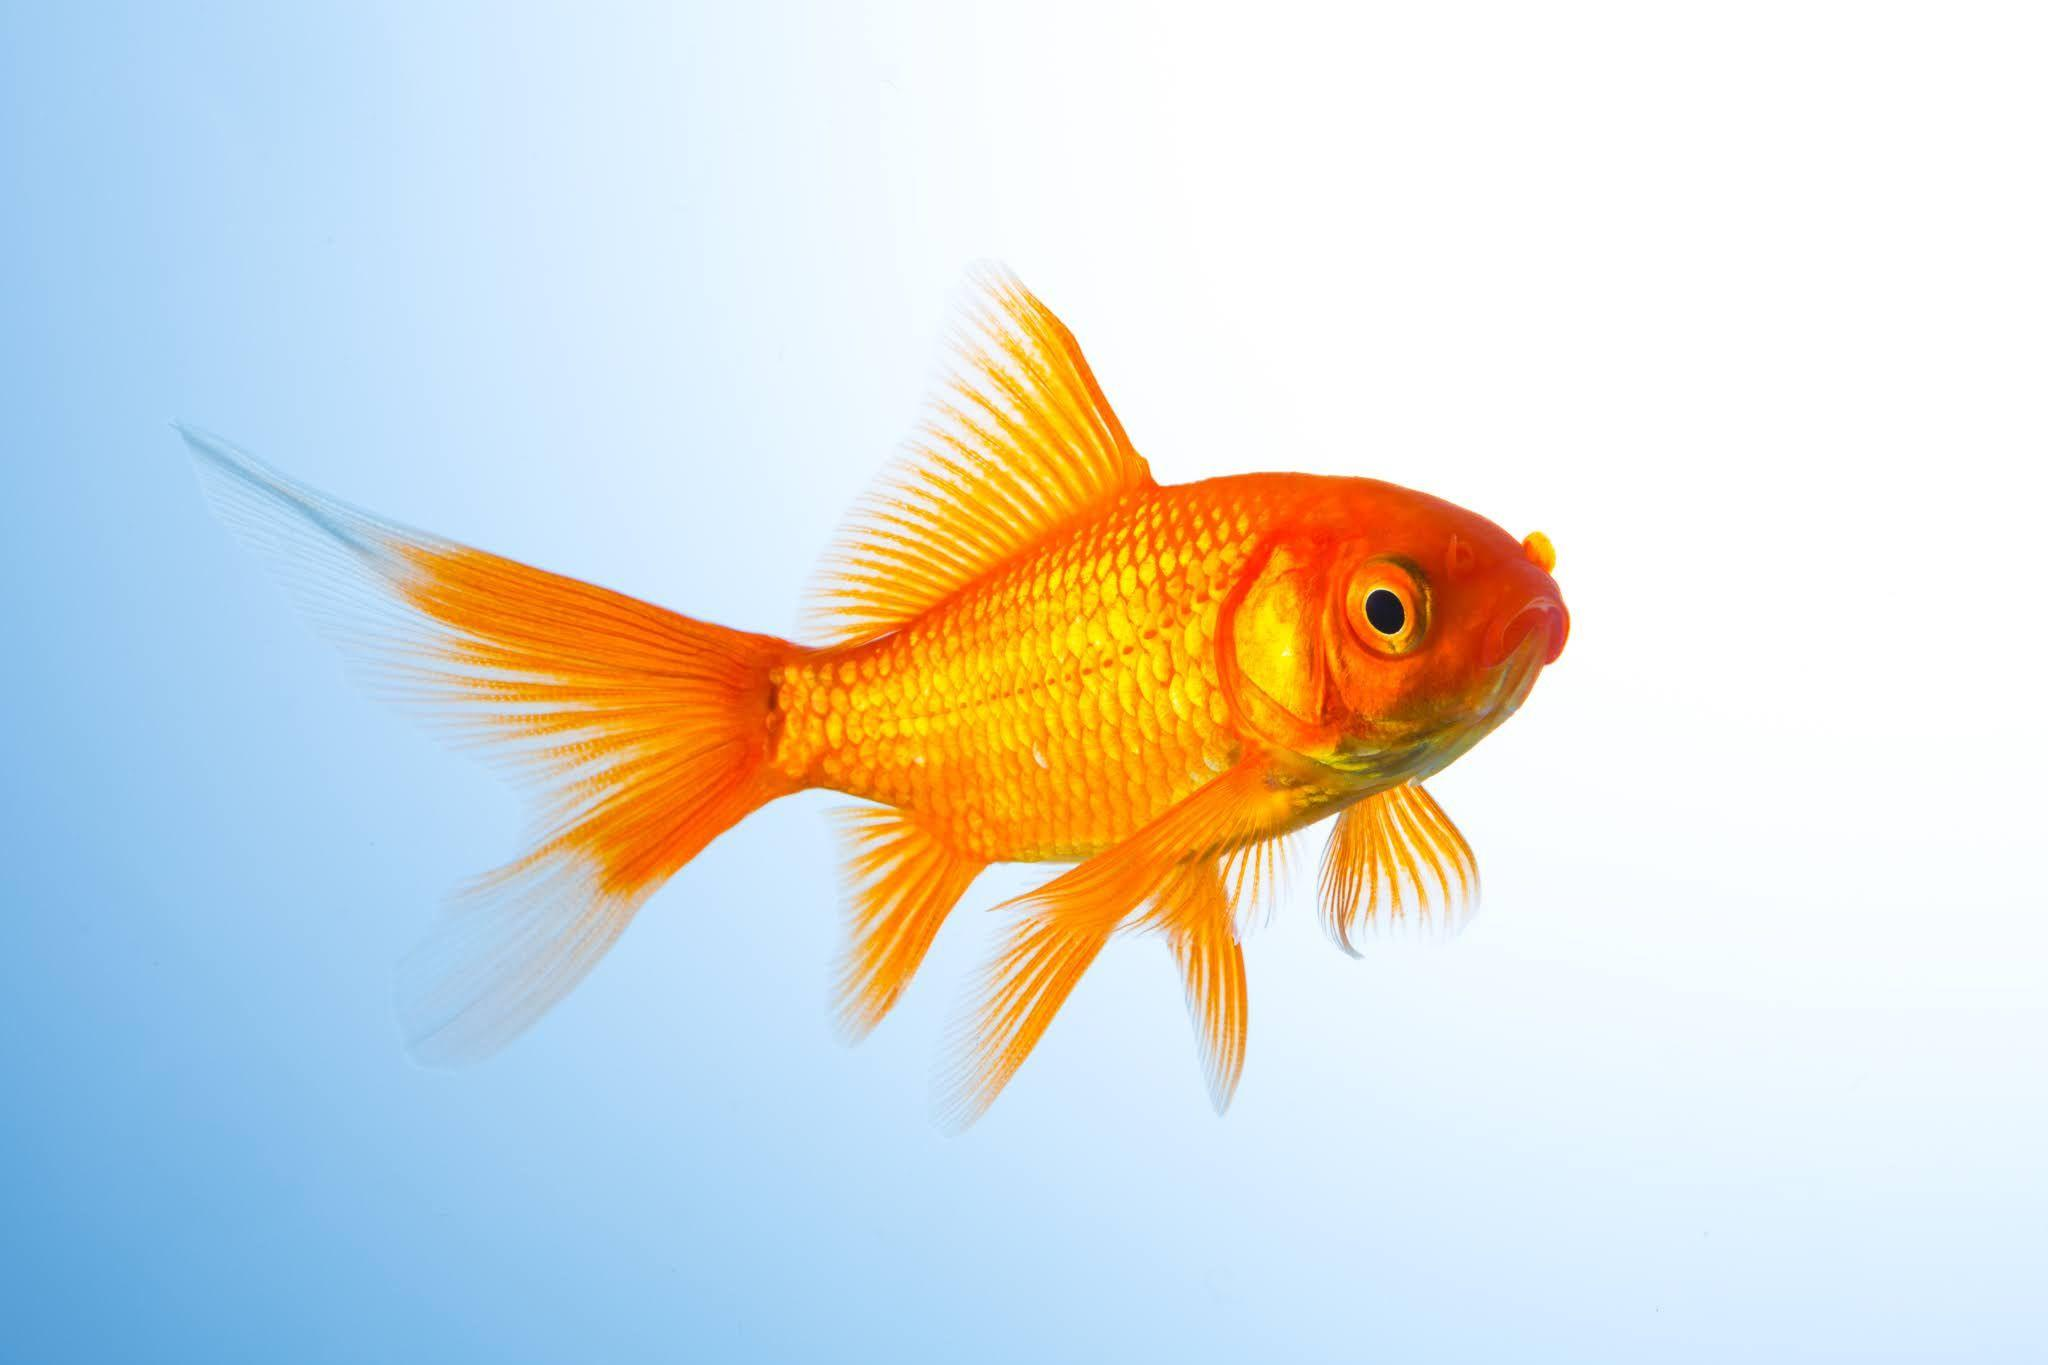Gold Fish: (161, 283, 1577, 1123)
